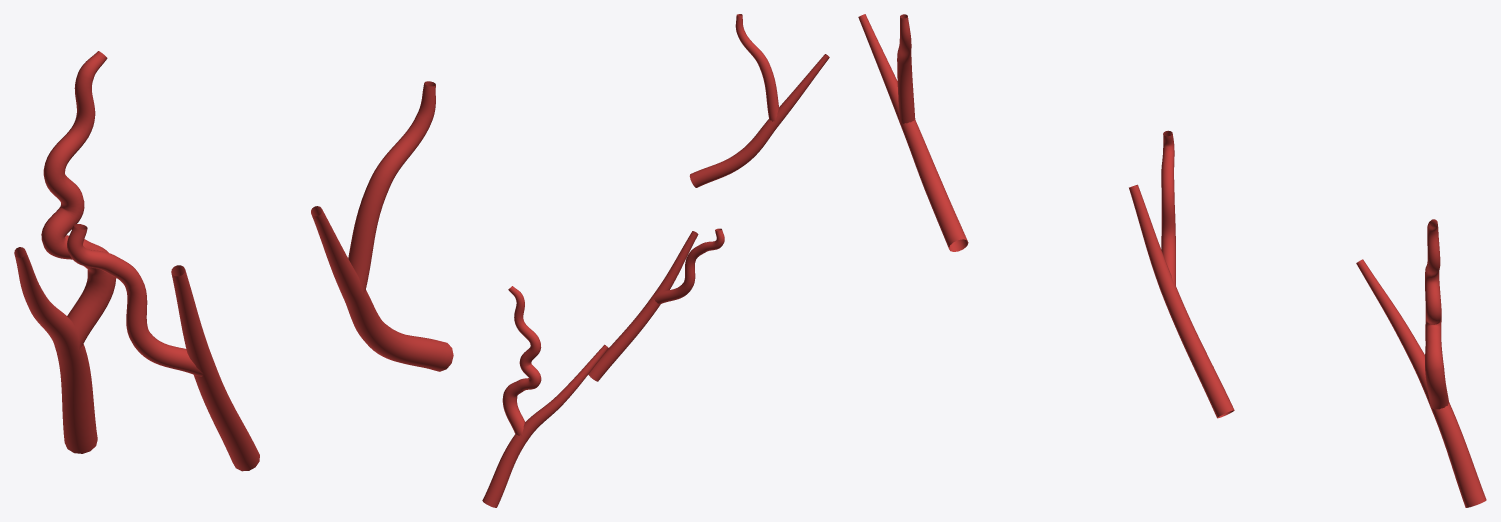
The picture shows the model from 3 angles, left to right: view 1: azimuth 30°, elevation 25°; view 2: azimuth 150°, elevation 25°; view 3: azimuth 270°, elevation 25°; orthographic projection. The views are drawn at different scales.
Visible parts, largest first — view 1: 前室间支的室间隔支; view 2: 前室间支的室间隔支; view 3: 前室间支的室间隔支.
Part boxes in pixels (<box>): 前室间支的室间隔支: <box>14,51,453,471</box>; 前室间支的室间隔支: <box>482,14,829,507</box>; 前室间支的室间隔支: <box>858,14,1486,507</box>.
Size of the model in its own units: 0.0182 by 0.0473 by 0.0576.
